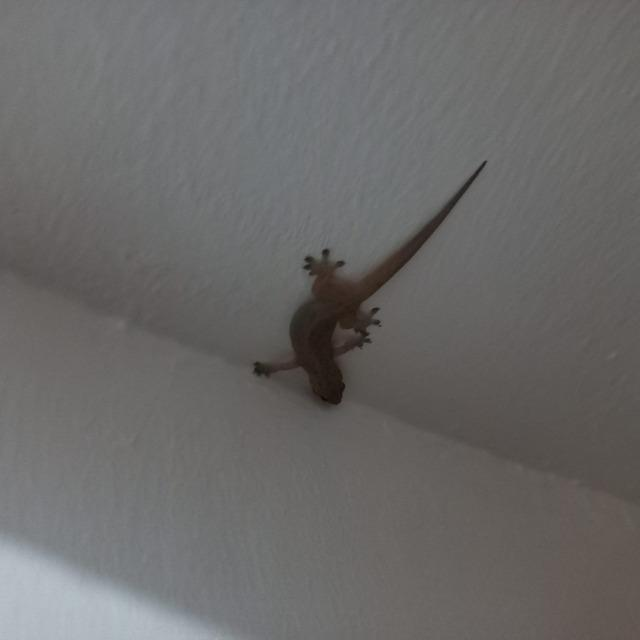lizard: (252, 157, 490, 407)
